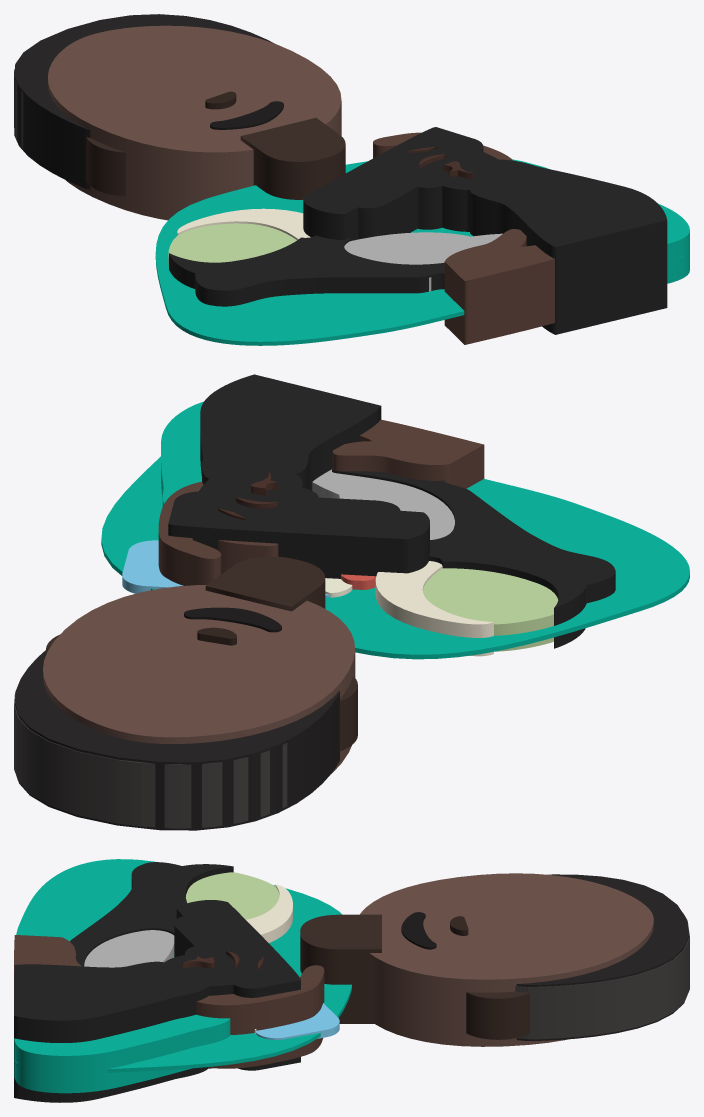
Rendered from emoji_u1f468_1f3ff_200d_1f37c.glb.
The picture shows the model from 3 angles, top to bottom: view 1: azimuth 30°, elevation 25°; view 2: azimuth 150°, elevation 25°; view 3: azimuth 270°, elevation 25°; orthographic projection. The views are drawn at different scales.
Visible parts, largest first — view 1: emoji_u1f468_1f3ff_200d_1f37c; view 2: emoji_u1f468_1f3ff_200d_1f37c; view 3: emoji_u1f468_1f3ff_200d_1f37c.
Part boxes in pixels (box(x1,y1,x2,y2)): emoji_u1f468_1f3ff_200d_1f37c: box(14, 14, 689, 345); emoji_u1f468_1f3ff_200d_1f37c: box(14, 374, 689, 830); emoji_u1f468_1f3ff_200d_1f37c: box(14, 859, 689, 1102).
Bounding box in the file's own units: 0.0246 × 0.005 × 0.0328.
